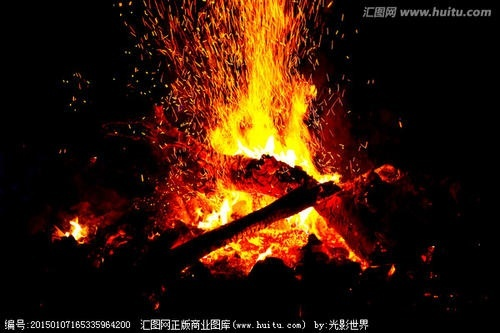fire: (191, 2, 350, 258), (53, 208, 94, 243)
